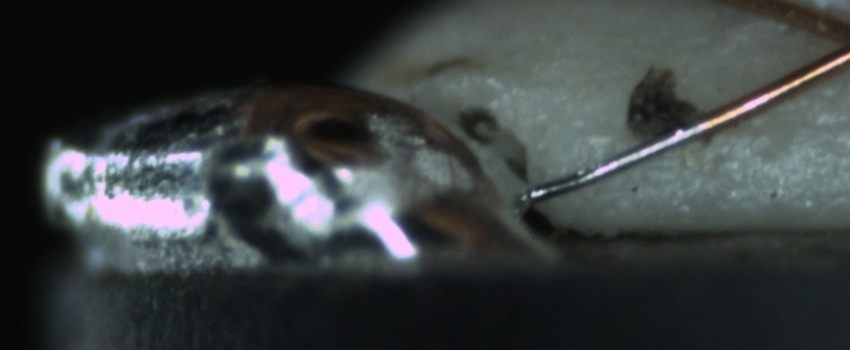CL: (804, 6, 850, 80)
DL: (763, 91, 849, 160)
TS: (524, 119, 707, 206)
